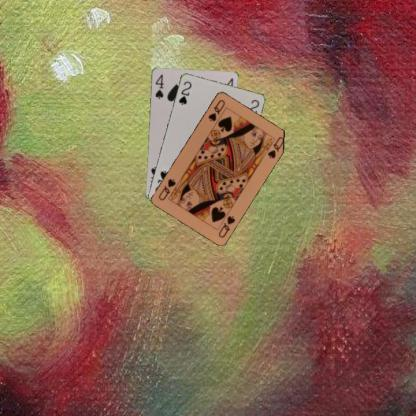2s: (176, 79, 192, 106)
4s: (152, 72, 164, 100)
Qs: (206, 96, 226, 122), (216, 212, 236, 238)
